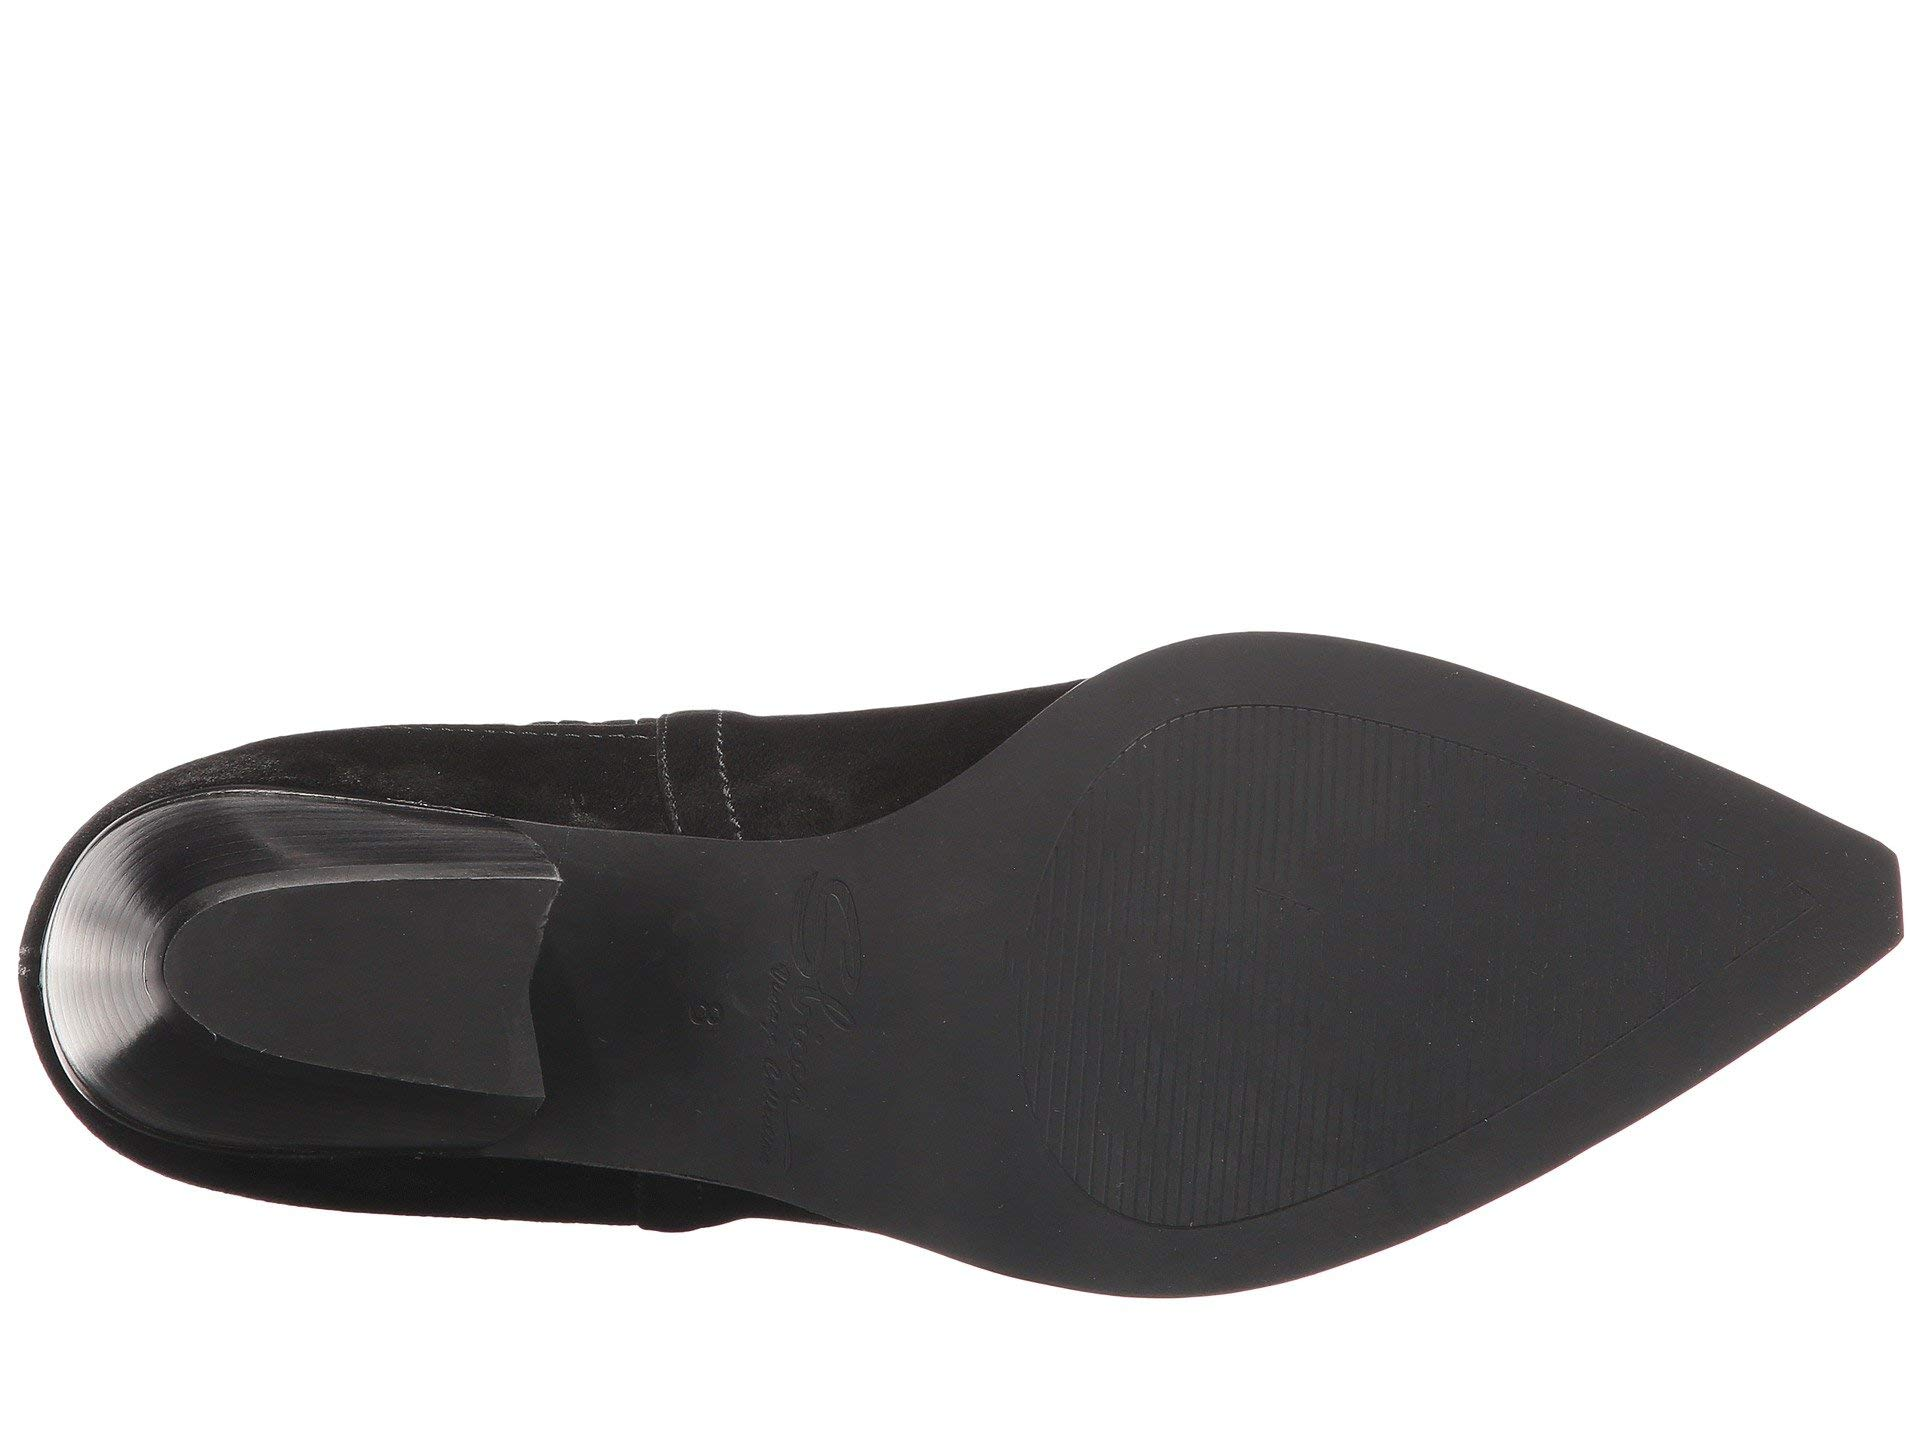exclude: (11, 614, 1110, 1269)
line: (1158, 732, 1392, 1181), (1414, 753, 1663, 1056), (1058, 909, 1135, 1198)
